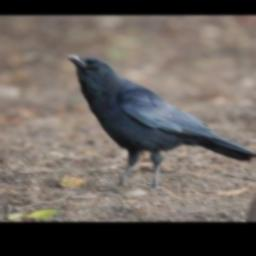Crow: (62, 54, 256, 193)
